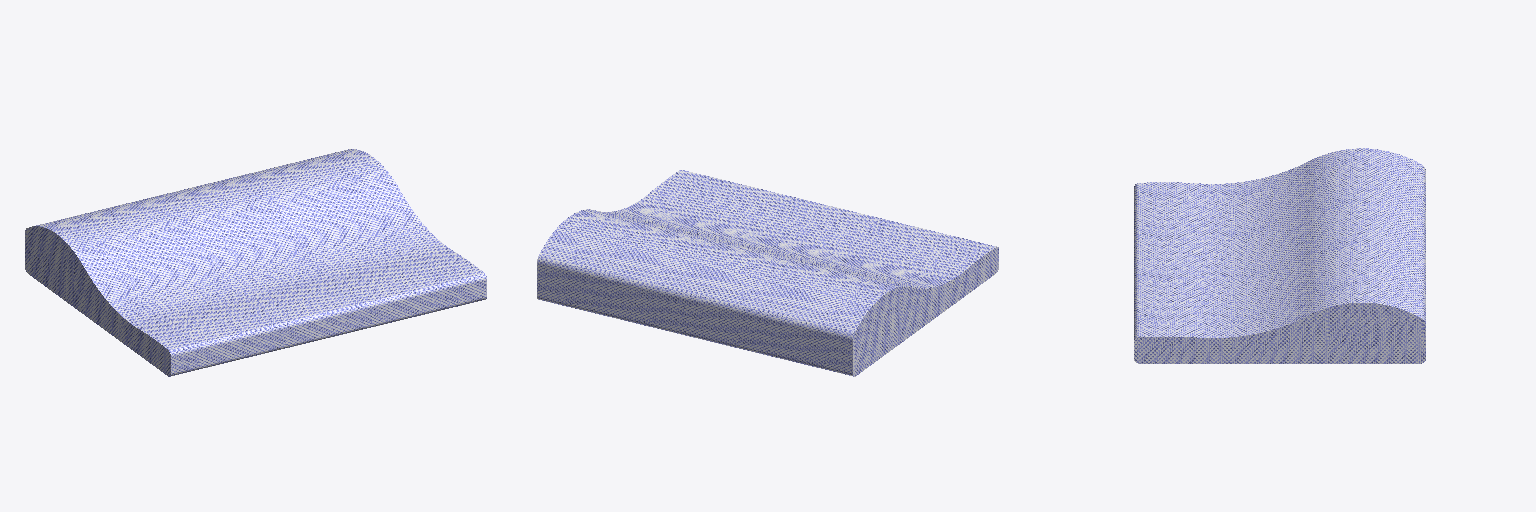
3 views of the same model, side by side, from view 1: azimuth 30°, elevation 25°; view 2: azimuth 150°, elevation 25°; view 3: azimuth 270°, elevation 25° (orthographic).
Visible parts, largest first — view 1: blue; view 2: blue; view 3: blue.
Boxes of the visible parts, <box> form: blue: <box>25,149,486,376</box>; blue: <box>537,170,998,376</box>; blue: <box>1134,148,1425,363</box>.
Bounding box in the file's own units: 5.69 × 1.05 × 4.55.
Materials: 1 (1 with a texture image).